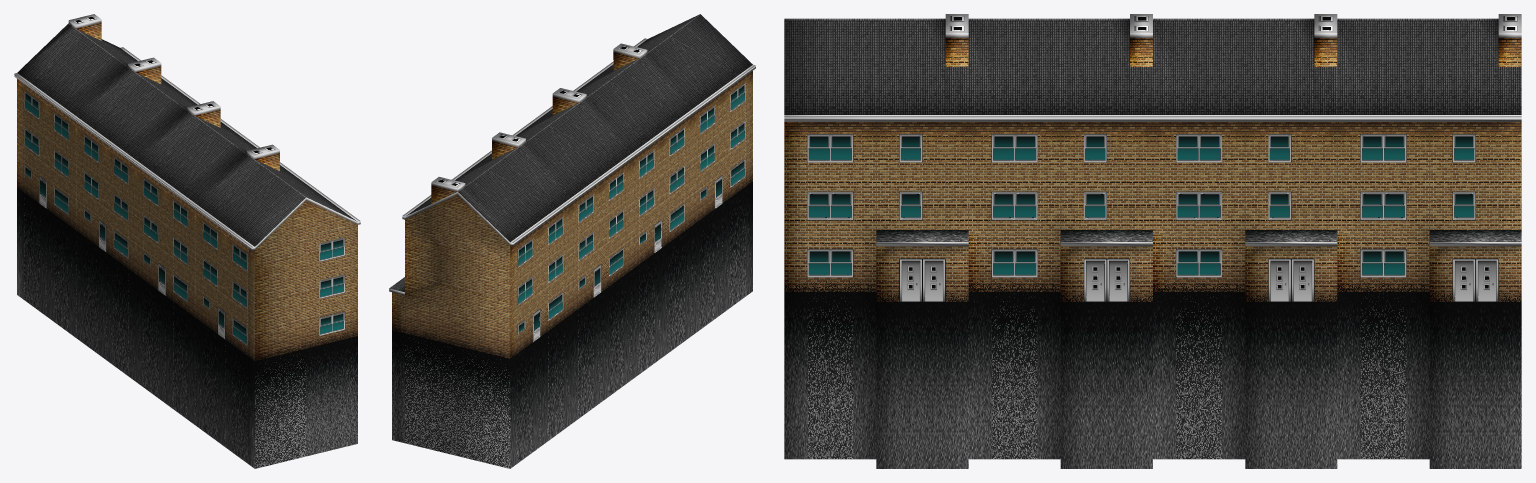
Rendered from maisonet_mod2_3b.fbx.
3 views of the same model, side by side, from view 1: azimuth 30°, elevation 25°; view 2: azimuth 150°, elevation 25°; view 3: azimuth 270°, elevation 25° (orthographic). The views are drawn at different scales.
Parts seen in each view (by area): view 1: maisonet_mod2_3b; view 2: maisonet_mod2_3b; view 3: maisonet_mod2_3b.
Boxes of the visible parts, left/top/right/bottom form: maisonet_mod2_3b: left=14, top=14, right=360, bottom=468; maisonet_mod2_3b: left=389, top=14, right=755, bottom=468; maisonet_mod2_3b: left=784, top=14, right=1521, bottom=468.
Bounding box in the file's own units: 1062 × 2188 × 3600.
